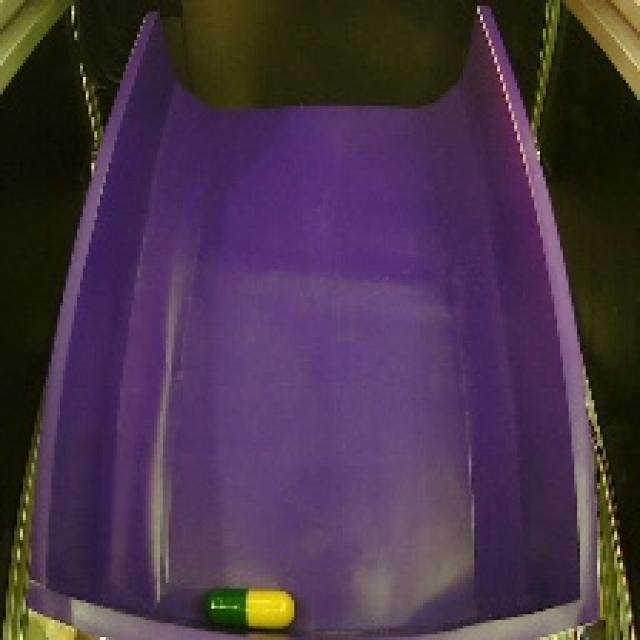small: (194, 576, 301, 639)
